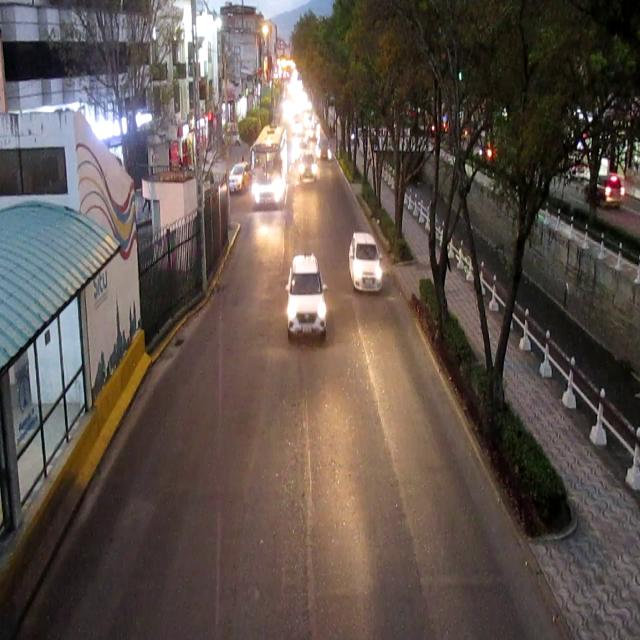BUS: (252, 132, 284, 210)
